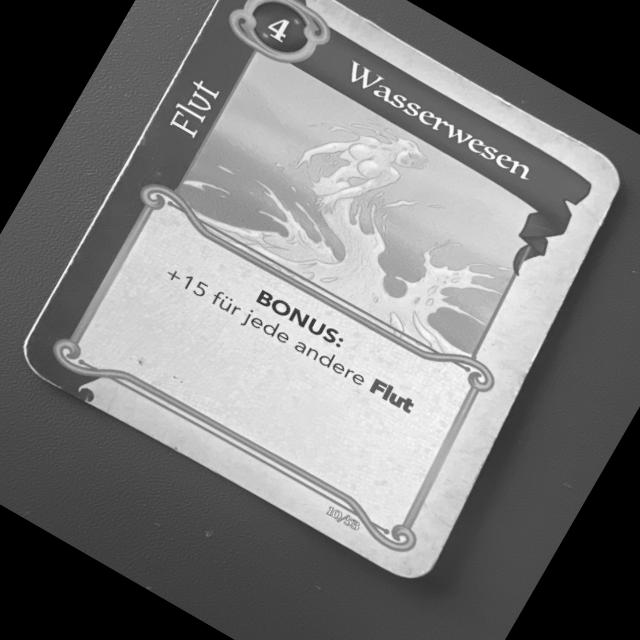Water Elemental: (7, 0, 636, 599)
